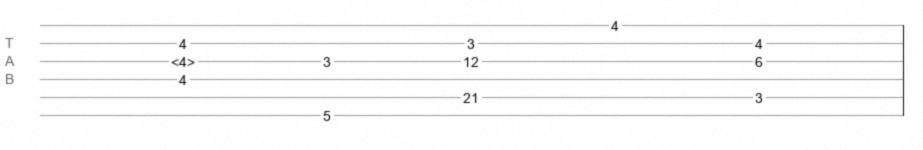12: (463, 54, 479, 64)
21: (463, 90, 479, 100)
3: (323, 54, 331, 64), (467, 36, 475, 46), (755, 90, 763, 100)
4: (179, 72, 187, 82), (179, 36, 187, 46), (611, 18, 619, 28), (755, 36, 763, 46)
5: (323, 108, 331, 118)
6: (755, 54, 763, 64)
harmonic: (171, 54, 195, 64)
